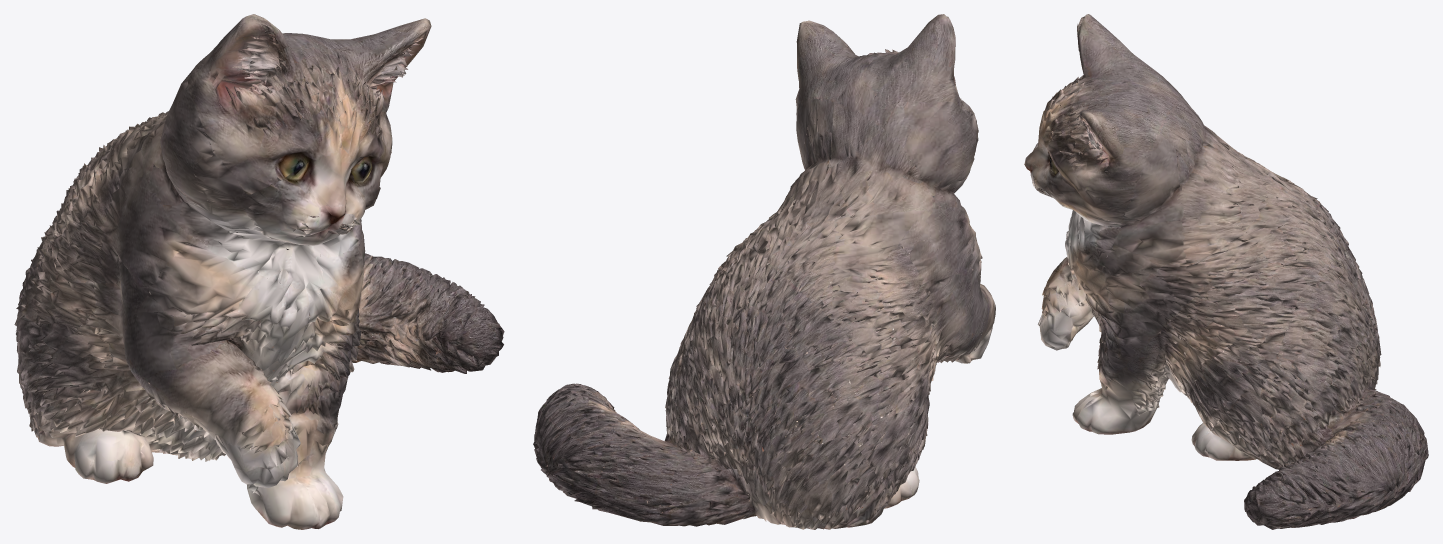
The model's file is kitten.glb.
The picture shows the model from 3 angles, left to right: view 1: azimuth 30°, elevation 25°; view 2: azimuth 150°, elevation 25°; view 3: azimuth 270°, elevation 25°; orthographic projection. The views are drawn at different scales.
Parts seen in each view (by area): view 1: kitten; view 2: kitten; view 3: kitten.
Part boxes in pixels (x1=…): kitten: x1=14, y1=14, x2=504, y2=529; kitten: x1=533, y1=14, x2=995, y2=529; kitten: x1=1024, y1=14, x2=1428, y2=529.
Size of the model in its own units: 0.2306 by 0.2499 by 0.2366.
Materials: 1 (1 with a texture image).
